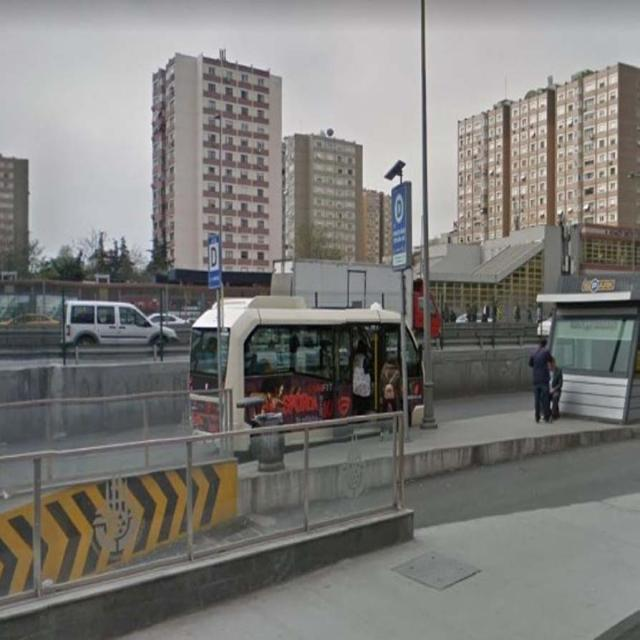durak: (206, 237, 221, 287)
